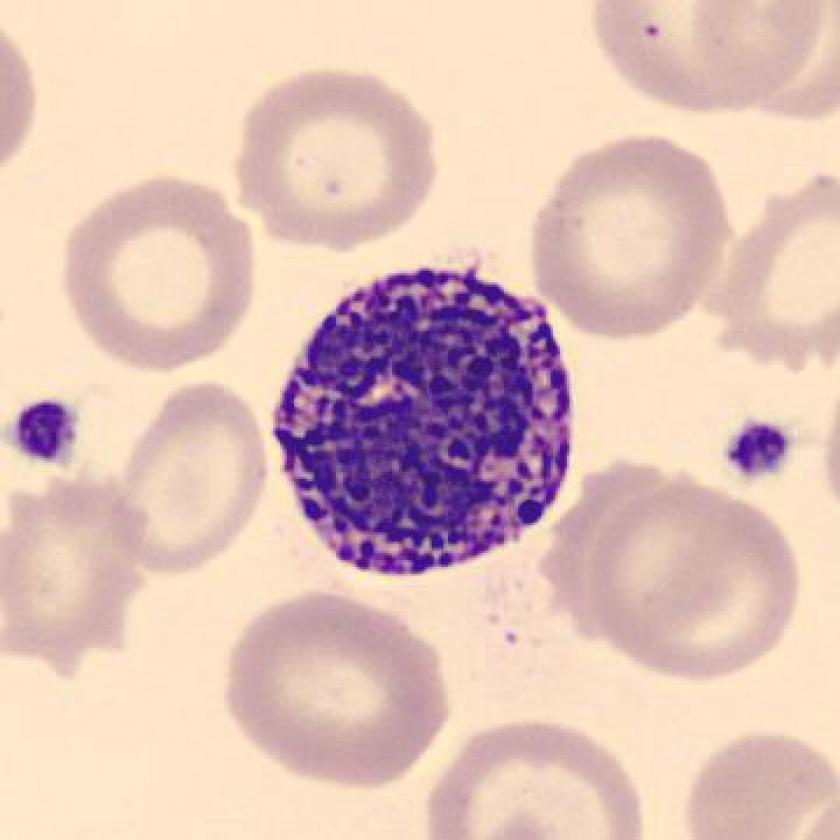basophil: (255, 247, 594, 601)
